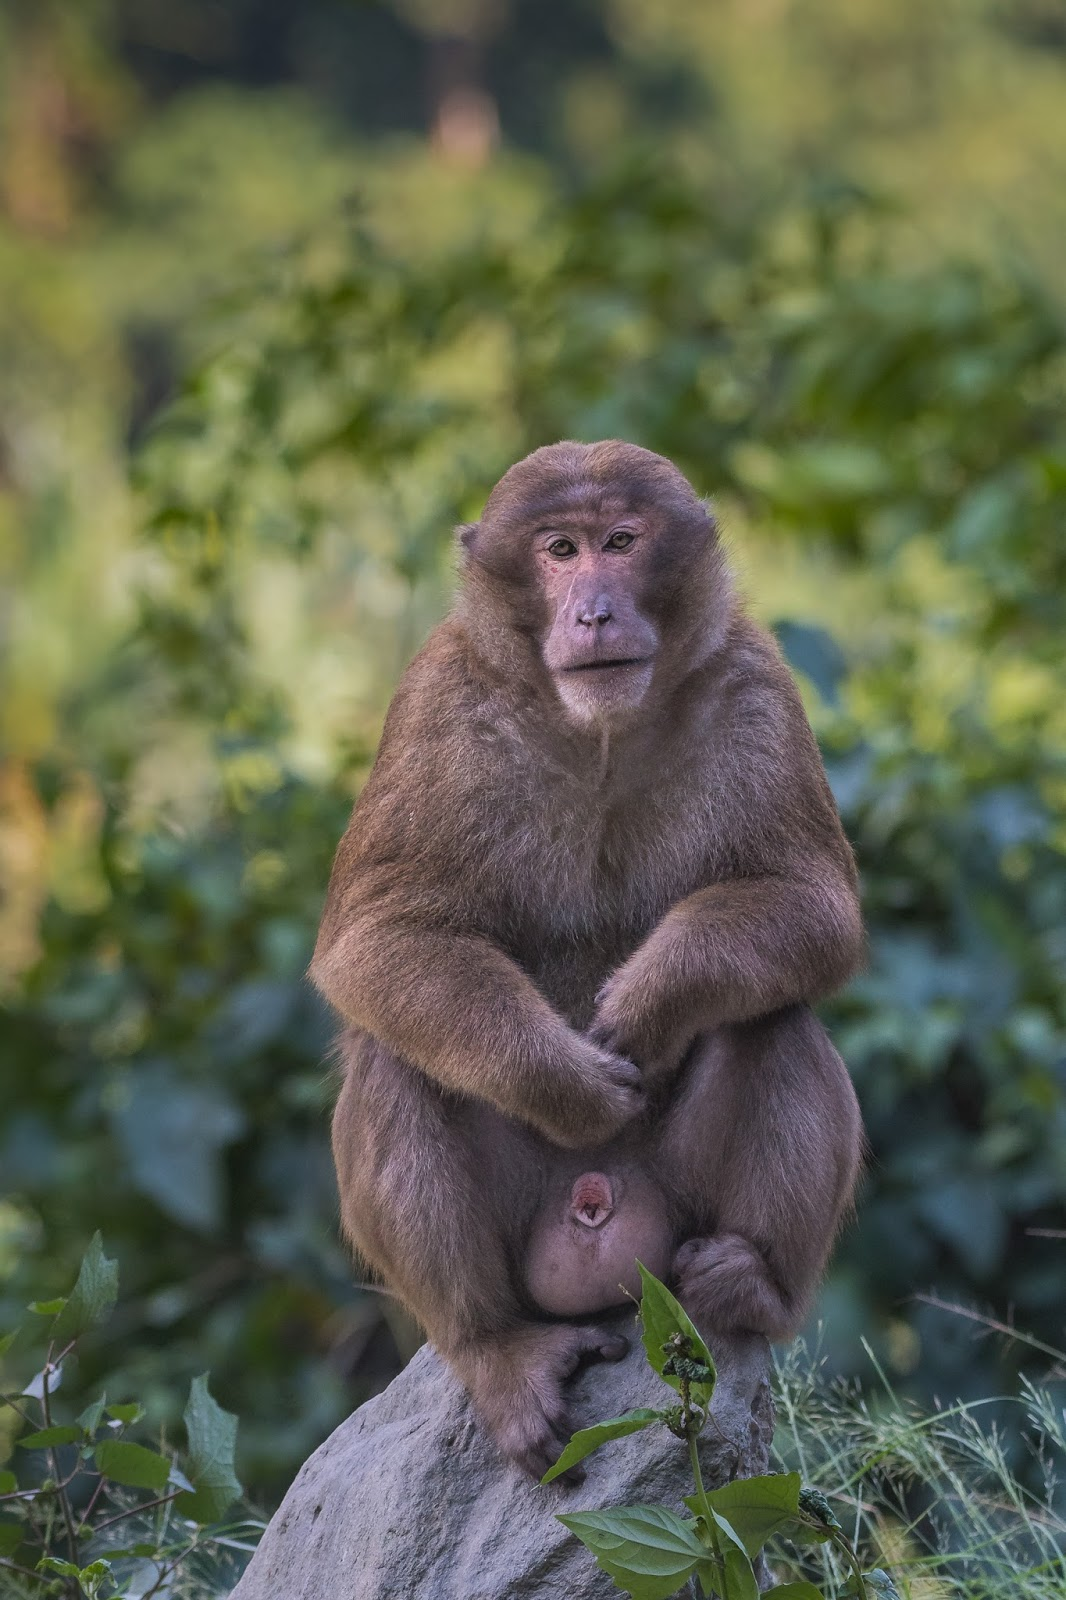monkey: (293, 401, 880, 1500)
